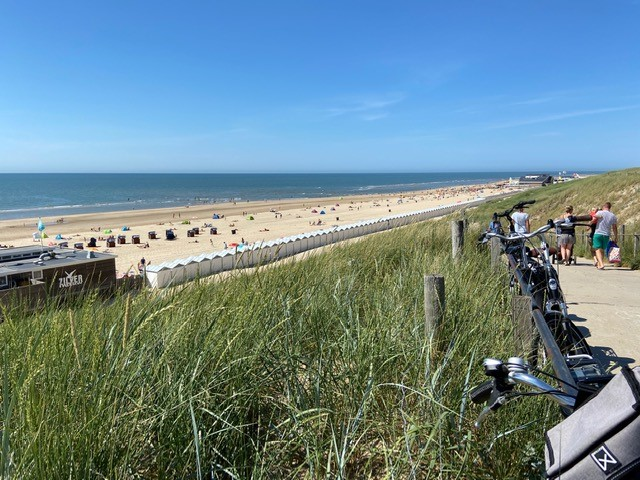zilvermeeuw: (1, 237, 124, 325)
